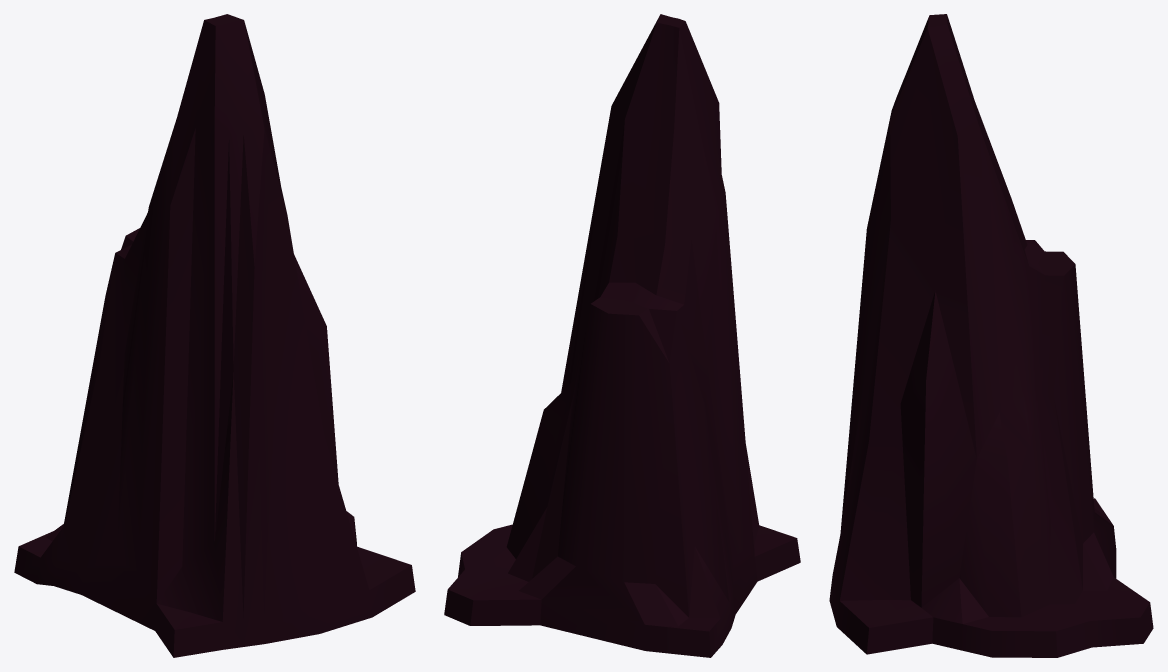
Rendered from volcanorock1.fbx.
3 renders of one model, left to right at view 1: azimuth 30°, elevation 25°; view 2: azimuth 150°, elevation 25°; view 3: azimuth 270°, elevation 25°, orthographic. The views are drawn at different scales.
Visible parts, largest first — view 1: Plane.001; view 2: Plane.001; view 3: Plane.001.
Boxes of the visible parts, x1,y1,x2,y2 form: Plane.001: (14, 14, 415, 657); Plane.001: (444, 14, 800, 657); Plane.001: (829, 14, 1153, 657).
Bounding box in the file's own units: 428 × 826 × 433.
